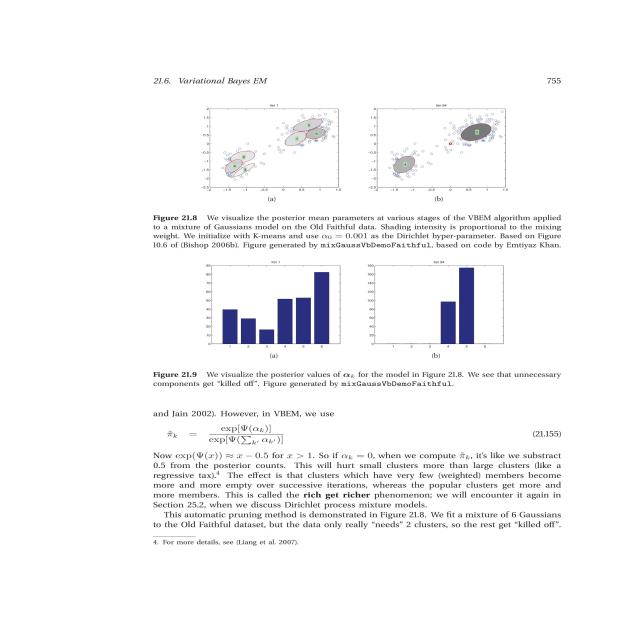diagram: (127, 85, 621, 258), (127, 251, 580, 400)
